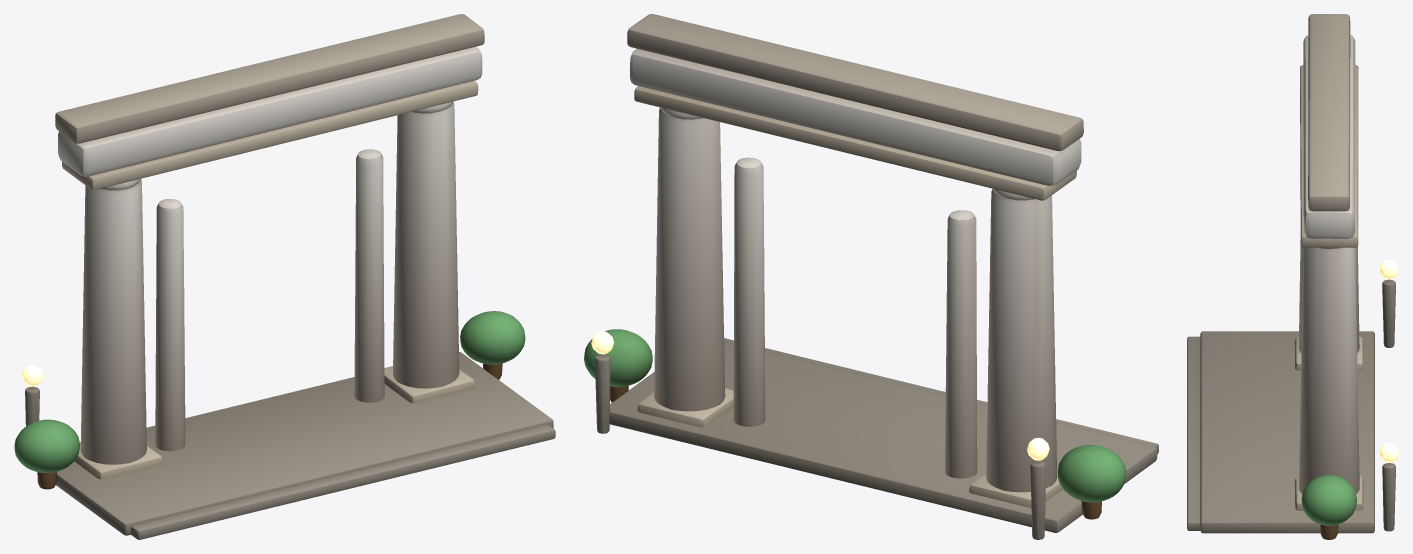
3 views of the same model, side by side, from view 1: azimuth 30°, elevation 25°; view 2: azimuth 150°, elevation 25°; view 3: azimuth 270°, elevation 25° (orthographic). The views are drawn at different scales.
Visible parts, largest first — view 1: gate_9537eb24; view 2: gate_9537eb24; view 3: gate_9537eb24.
Part boxes in pixels (x1,y1,x2,y2): gate_9537eb24: [14, 14, 555, 539]; gate_9537eb24: [584, 14, 1158, 539]; gate_9537eb24: [1187, 14, 1398, 539].
Bounding box in the file's own units: 6.42 × 4.44 × 2.55.
